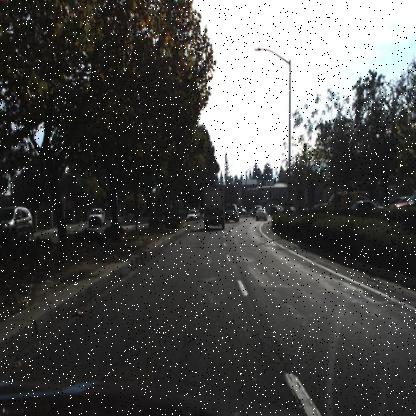car: (0, 204, 33, 250), (201, 184, 229, 234), (326, 190, 370, 215), (346, 199, 387, 220), (86, 204, 107, 231), (224, 198, 242, 224), (254, 203, 268, 222), (186, 207, 200, 223)
